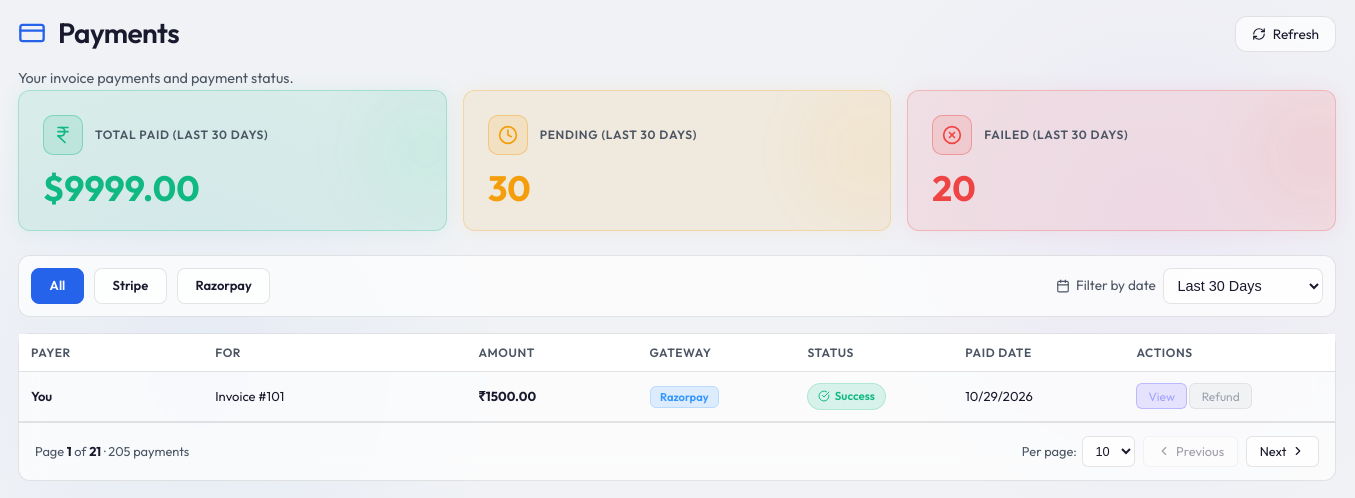
<Payments /> — page surface › uses server totals and requests the next customer page beyond 200 payments
The image size is (1355, 498).
Expected: the element with test id "payment-pagination" shows "205 payments", x1=35 y1=441 x2=189 y2=462
Expected: the text "$9999.00" is shown, x1=43 y1=166 x2=200 y2=210
What coordinates should you click on to do the following:
click the button with aria-label "Next page"
I would click on:
 (1282, 452)
Its box is x1=1246 y1=436 x2=1319 y2=467.
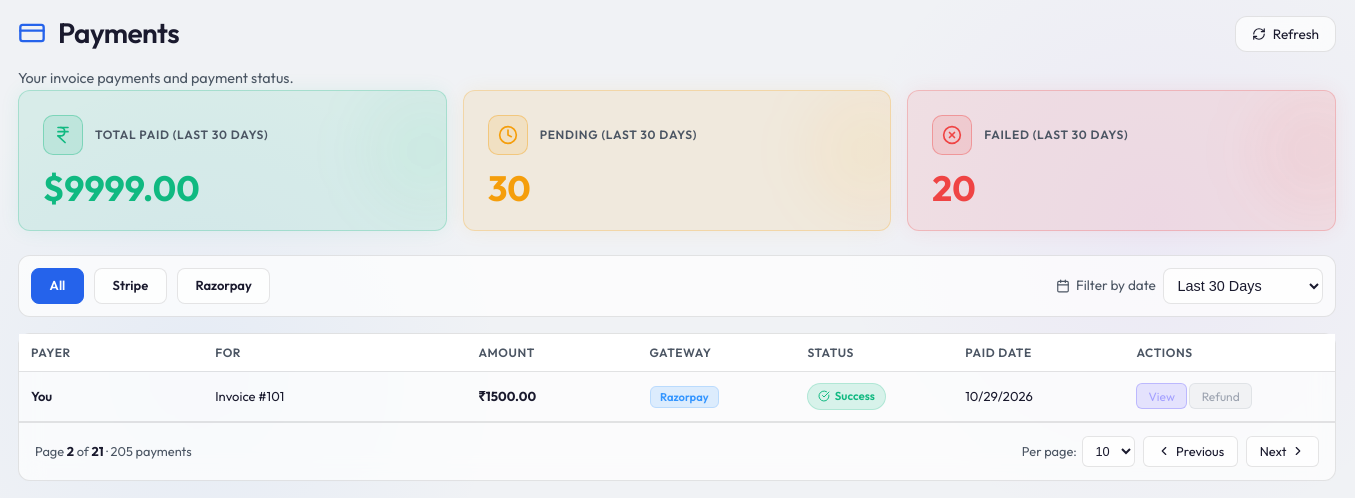
Expected: the text "$9999.00" is shown, x1=43 y1=166 x2=200 y2=210
Expected: the element with test id "payment-pagination" shows "Page 2 of 21", x1=35 y1=441 x2=192 y2=462
